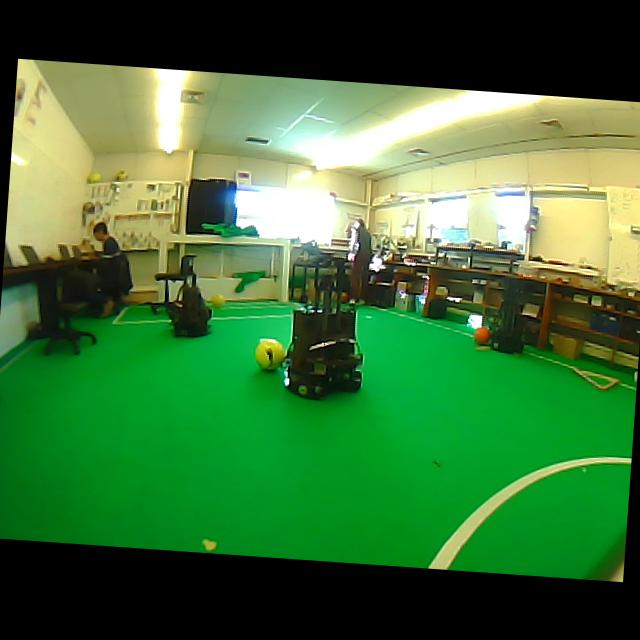ball: (255, 338, 285, 369), (473, 326, 489, 344), (208, 294, 224, 307), (87, 172, 102, 182), (114, 169, 127, 180), (340, 291, 348, 302)
goal: (279, 239, 290, 302)
robot: (284, 257, 363, 398), (166, 254, 210, 336), (490, 279, 524, 353)
